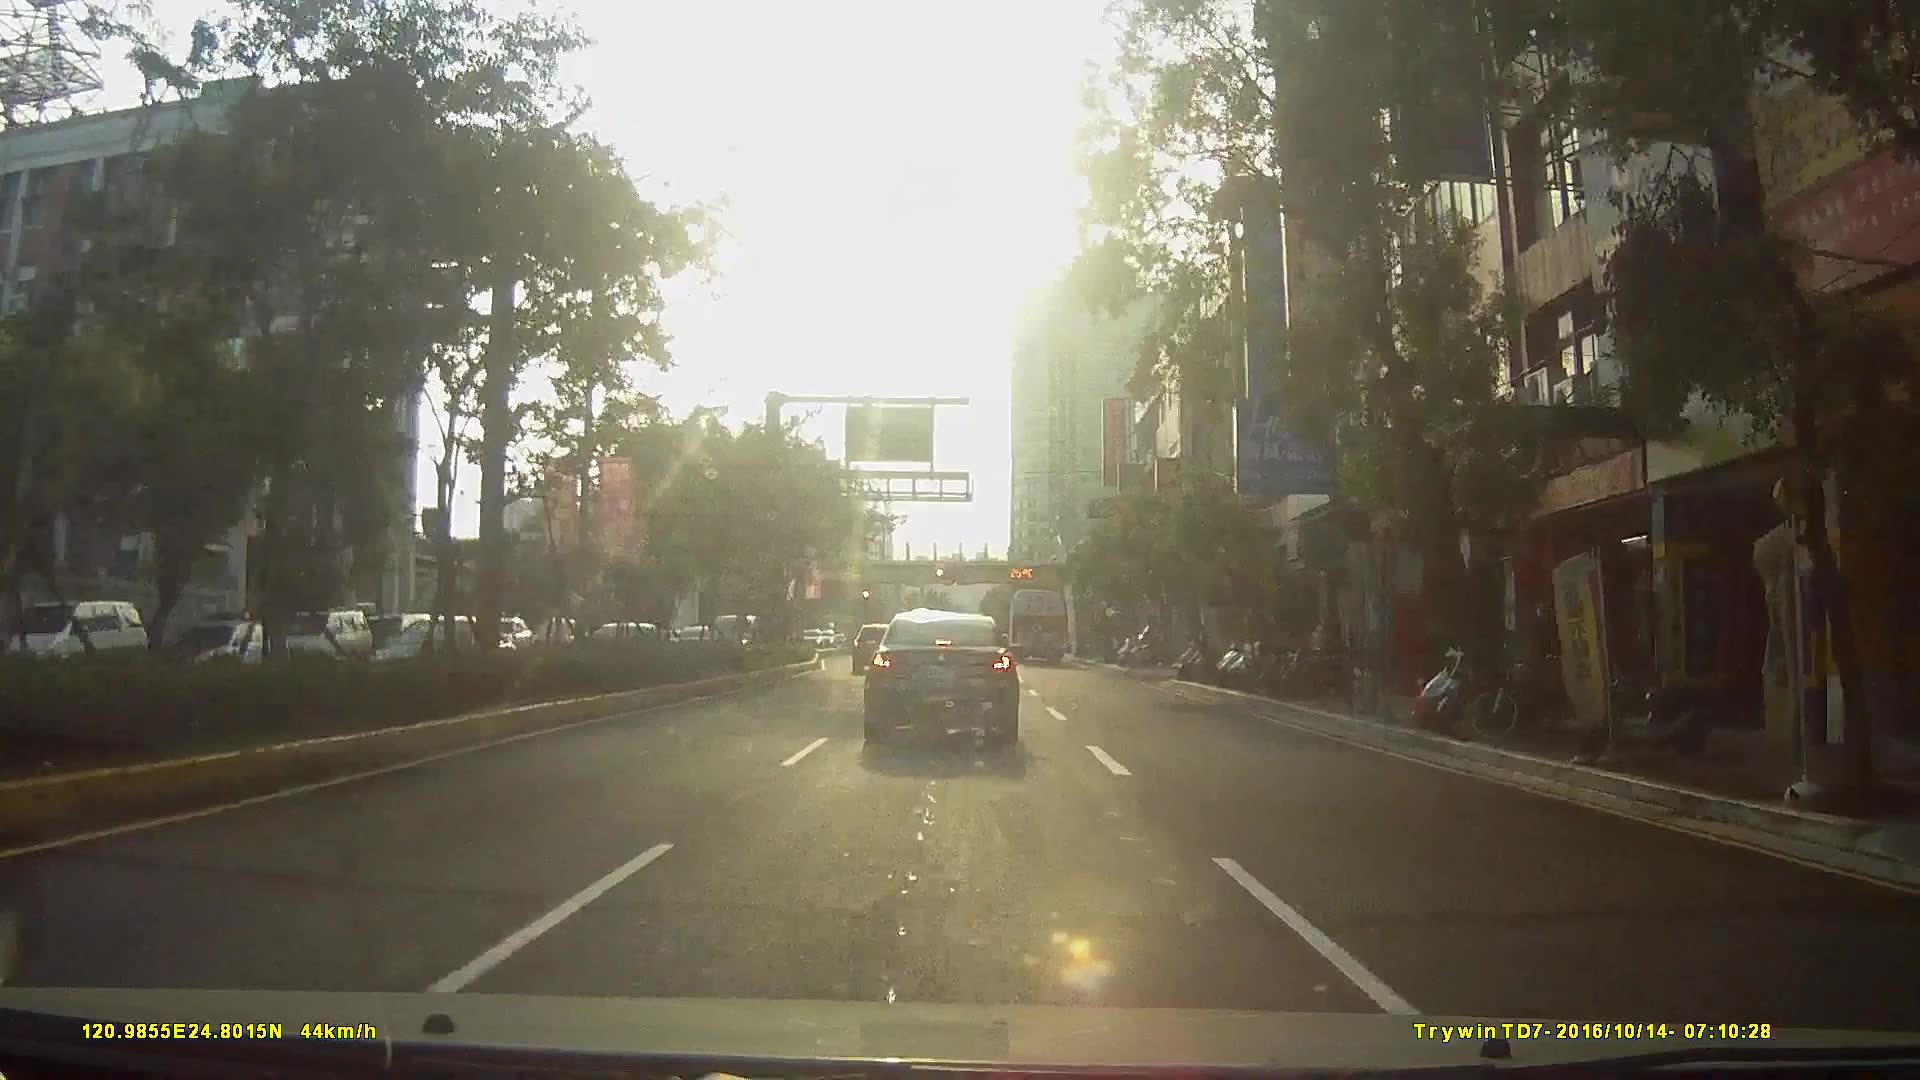vehicle: (861, 608, 1021, 744), (158, 618, 314, 692), (3, 597, 141, 679), (273, 607, 368, 666), (1006, 583, 1069, 661), (353, 608, 433, 665), (467, 612, 531, 654), (849, 621, 897, 671)
